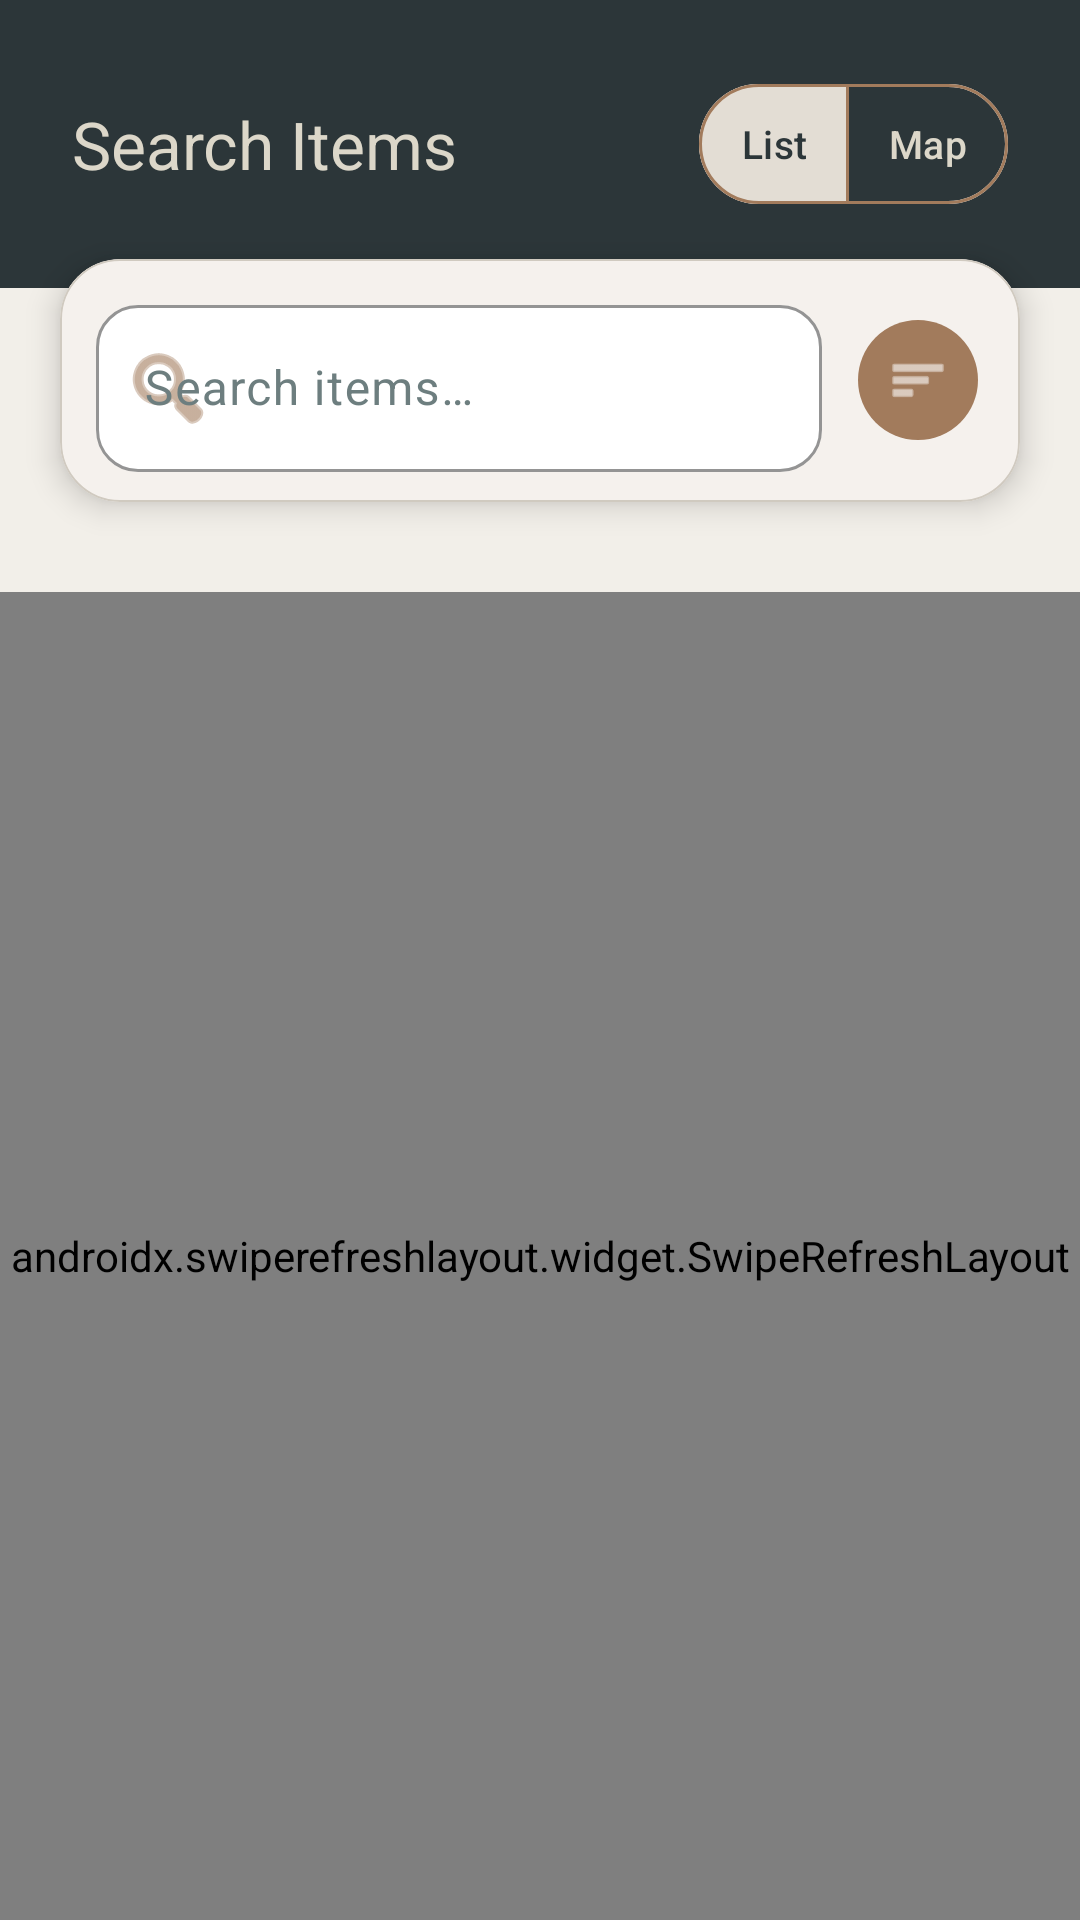

Icons on this 1080×1920 Android screen, each with its box as (x1, y1, x2, y2):
Sort and filter: (858, 320, 978, 440)
